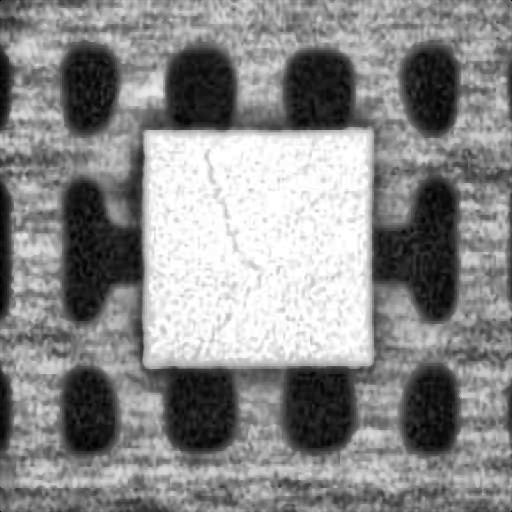DIE_CRACK: (198, 143, 258, 273)
